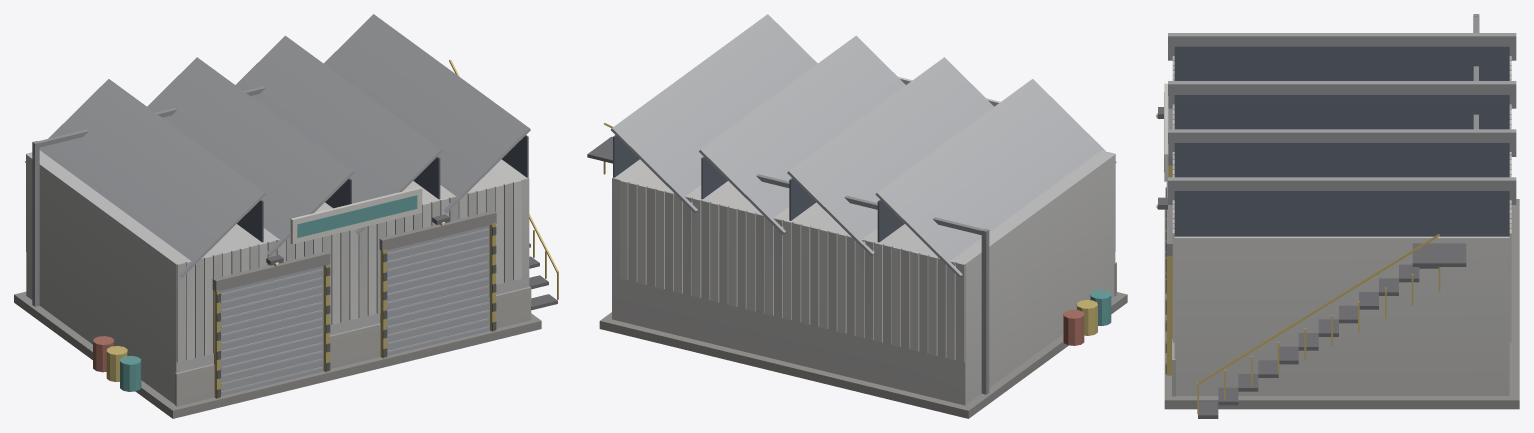
The model's file is fc_workshop.glb.
3 renders of one model, left to right at view 1: azimuth 30°, elevation 25°; view 2: azimuth 150°, elevation 25°; view 3: azimuth 270°, elevation 25°, orthographic. The views are drawn at different scales.
Parts seen in each view (by area): view 1: fc_workshop; view 2: fc_workshop; view 3: fc_workshop.
Boxes of the visible parts, x1,y1,x2,y2 form: fc_workshop: (14, 14, 558, 418); fc_workshop: (587, 14, 1127, 418); fc_workshop: (1156, 14, 1519, 418).
Bounding box in the file's own units: 16.24 × 7.45 × 10.85.
